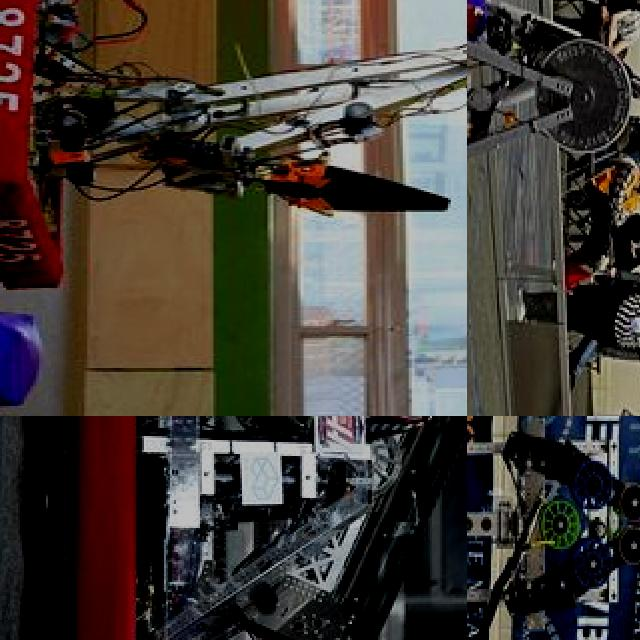FRC-Robots: (0, 0, 467, 314), (21, 416, 467, 640), (467, 0, 640, 235), (467, 416, 640, 640)
